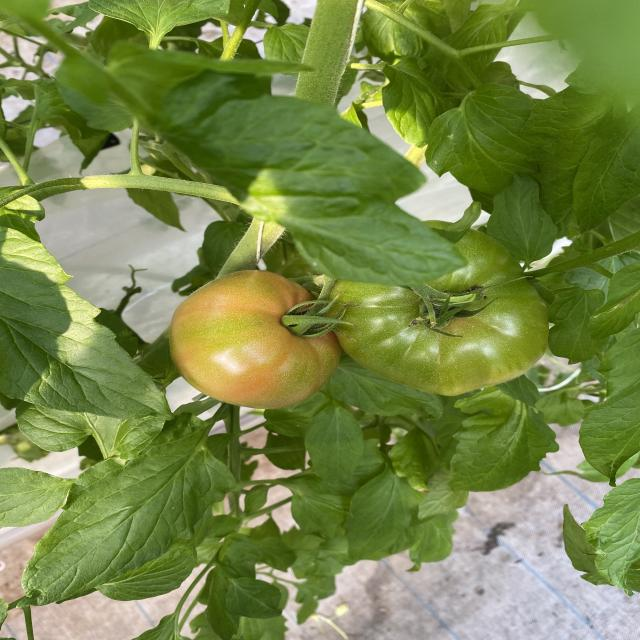sari: (110, 256, 324, 402)
yesil: (311, 235, 565, 405)
